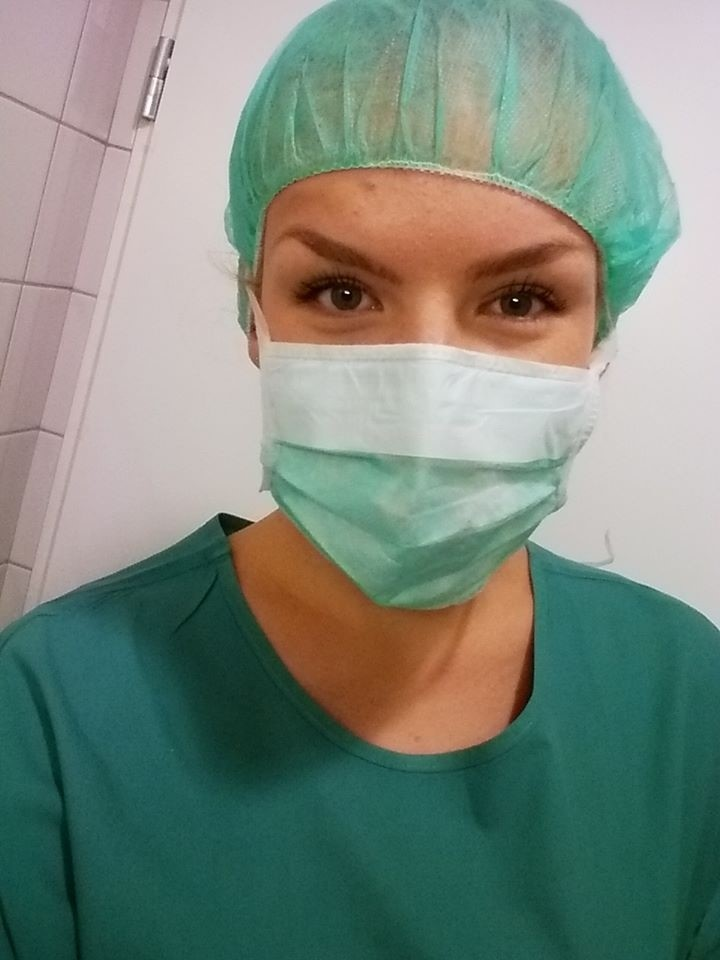face_with_mask: (220, 0, 676, 611)
